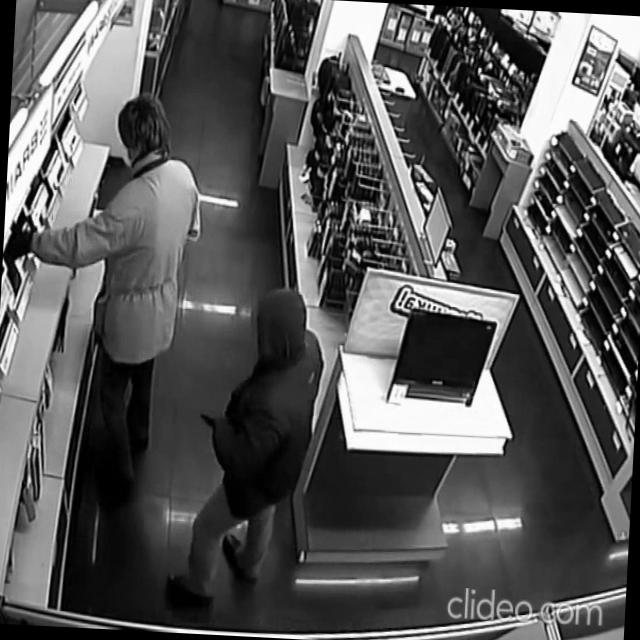gun: (196, 410, 222, 432)
person: (0, 83, 209, 508)
person with a gun: (166, 279, 330, 614)
